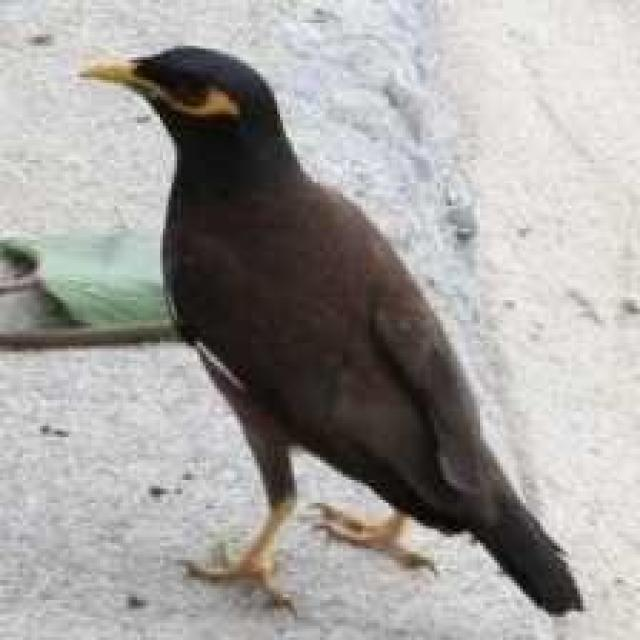bird: (69, 27, 600, 626)
